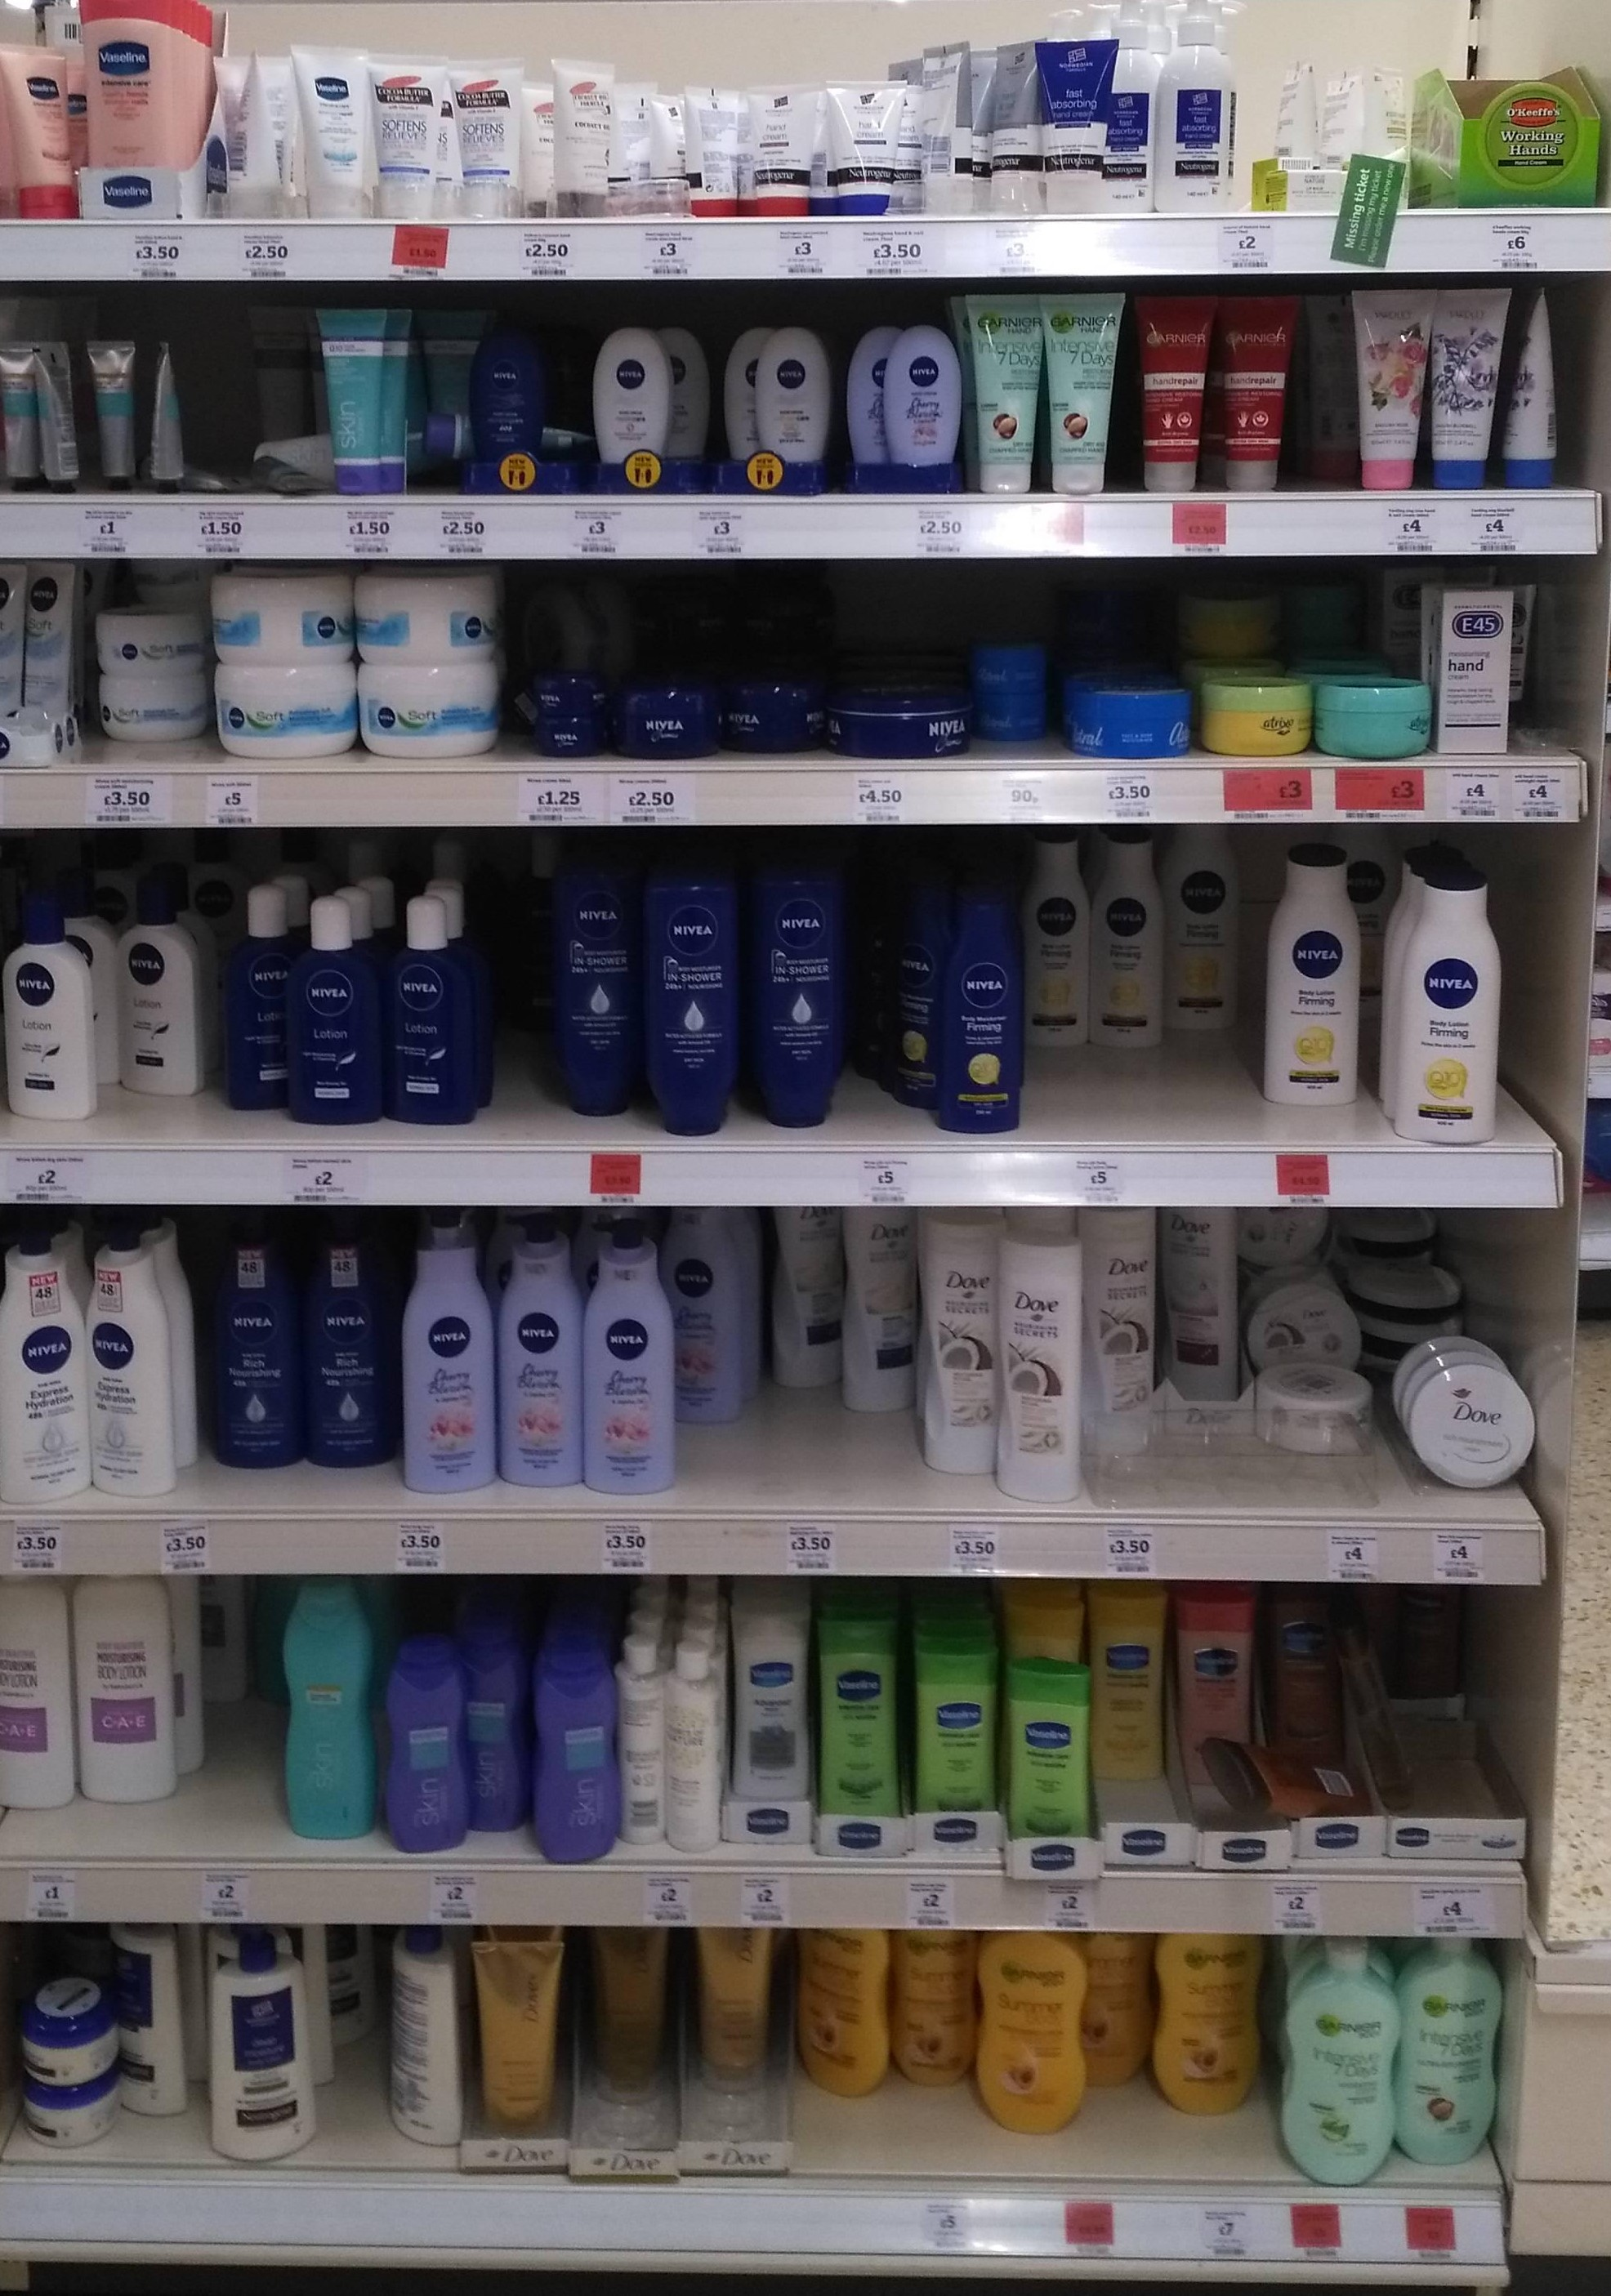empty: (1389, 1614, 1496, 1821)
misalignment: (674, 1218, 918, 1438), (852, 878, 1019, 1127), (227, 1586, 375, 1837), (429, 403, 597, 473), (152, 331, 206, 490)
